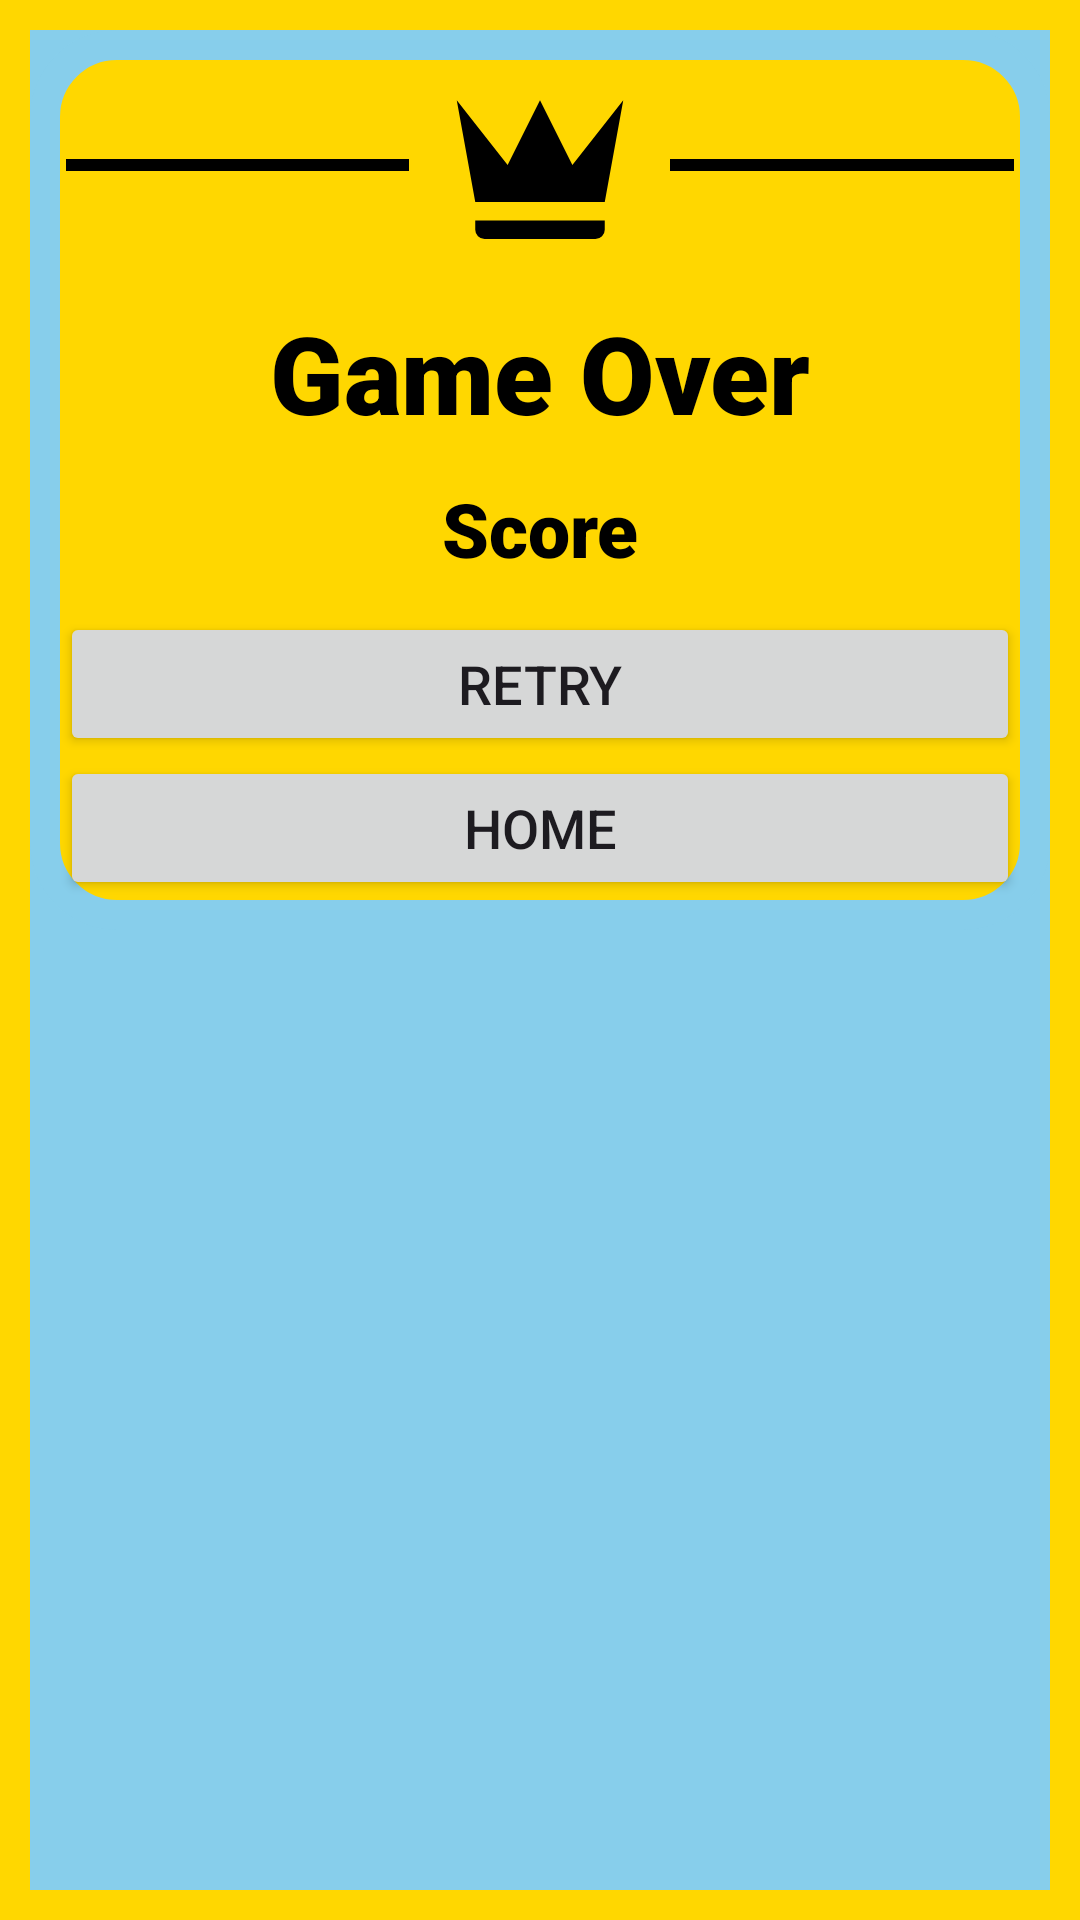

Icons on this 1080*1920 Android screen, each with the point to tap as (x=x, y=y):
crown: (x=540, y=169)
